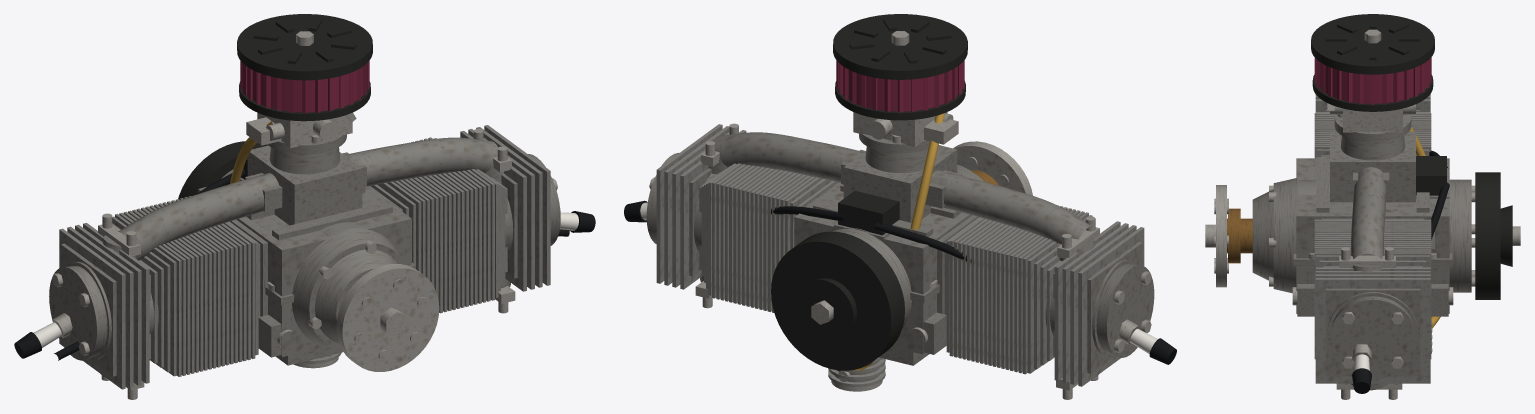
Rendered from rotax-916-engine.glb.
The picture shows the model from 3 angles, left to right: view 1: azimuth 30°, elevation 25°; view 2: azimuth 150°, elevation 25°; view 3: azimuth 270°, elevation 25°; orthographic projection. The views are drawn at different scales.
Parts seen in each view (by area): view 1: cylinder_fin (×42), head_fin (×8), intake_runner (×2), prop_flange, filter_top_cap, crankcase_body, intake_pedestal, head_dome (×2), front_bearing_housing, front_nose, head_body (×2), filter_element (+13 smaller); view 2: cylinder_fin (×41), head_fin (×8), cooling_fan, intake_runner (×2), filter_top_cap, crankcase_body, head_dome (×2), intake_pedestal, fan_hub, head_body (×2), filter_element, prop_flange (+16 smaller); view 3: head_fin (×5), filter_top_cap, head_dome, crankcase_body, intake_pedestal, cooling_fan, intake_runner, front_bearing_housing, rear_cover, head_body, filter_element, front_nose (+19 smaller).
Part boxes in pixels (x1,y1,x2,y2): cylinder_fin (×42): [112, 137, 498, 376]; head_fin (×8): [59, 125, 550, 389]; intake_runner (×2): [118, 137, 497, 260]; prop_flange: [336, 264, 439, 371]; filter_top_cap: [237, 14, 372, 80]; crankcase_body: [198, 186, 411, 356]; intake_pedestal: [247, 145, 362, 225]; head_dome (×2): [49, 154, 560, 360]; front_bearing_housing: [292, 228, 404, 350]; front_nose: [315, 249, 397, 343]; head_body (×2): [61, 174, 517, 376]; filter_element: [247, 67, 362, 112]; cylinder_fin (×41): [708, 163, 1092, 374]; head_fin (×8): [656, 124, 1144, 386]; cooling_fan: [771, 231, 904, 370]; intake_runner (×2): [715, 132, 1091, 244]; filter_top_cap: [833, 14, 967, 79]; crankcase_body: [794, 183, 1006, 354]; head_dome (×2): [646, 152, 1154, 357]; intake_pedestal: [843, 145, 957, 222]; fan_hub: [795, 278, 856, 342]; head_body (×2): [689, 168, 1142, 373]; filter_element: [843, 66, 957, 111]; prop_flange: [953, 141, 1032, 195]; head_fin (×5): [1315, 99, 1430, 383]; filter_top_cap: [1311, 14, 1434, 74]; head_dome: [1329, 296, 1416, 378]; crankcase_body: [1296, 158, 1449, 313]; intake_pedestal: [1330, 131, 1415, 202]; cooling_fan: [1475, 172, 1500, 299]; intake_runner: [1351, 167, 1386, 258]; front_bearing_housing: [1273, 178, 1297, 293]; rear_cover: [1449, 179, 1471, 292]; head_body: [1325, 288, 1420, 376]; filter_element: [1320, 62, 1425, 103]; front_nose: [1252, 189, 1273, 280].
Bounding box in the file's own units: 0.6516 × 0.378 × 0.346.
Materials: 10 (5 with a texture image).
